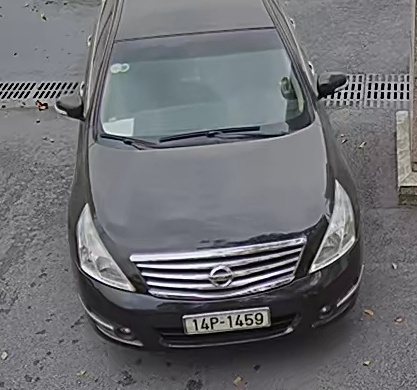vehicle plate: (178, 307, 272, 336)
